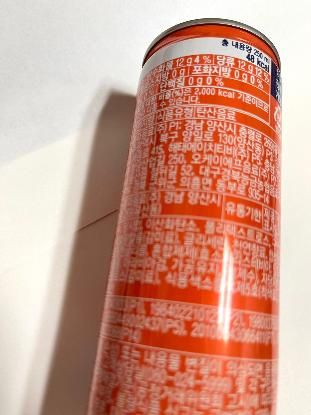Can: (82, 15, 287, 415)
